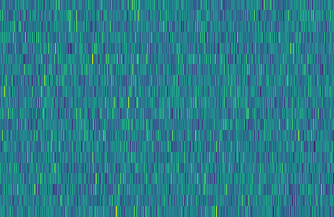signal: (110, 0, 143, 217)
